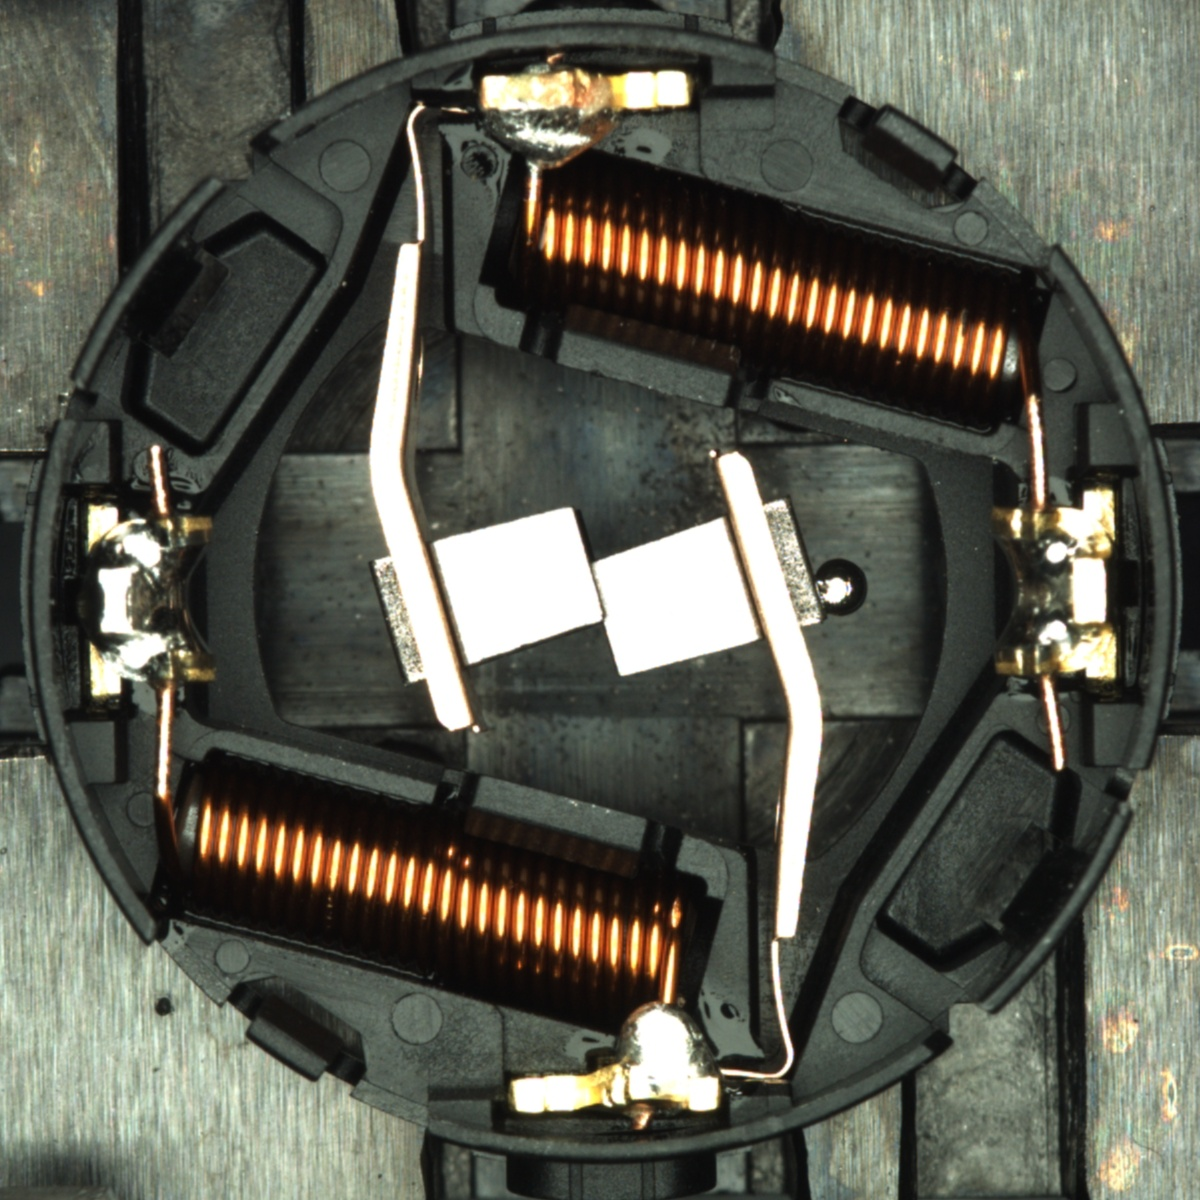1: (258, 55, 487, 279), (716, 953, 945, 1177)
2: (716, 55, 945, 279), (258, 953, 487, 1177)
3: (29, 279, 258, 503), (945, 729, 1175, 953)
4: (258, 279, 487, 503), (716, 729, 945, 953)
5: (487, 167, 716, 391), (487, 841, 716, 1065)
6: (716, 279, 945, 503), (258, 729, 487, 953)
7: (945, 279, 1175, 503), (29, 729, 258, 953)
chau_dien: (81, 498, 221, 699), (984, 489, 1122, 686)
hat_chi: (809, 557, 869, 618)
tay_choi: (510, 1000, 724, 1113), (479, 69, 695, 171)
thanh_de: (954, 788, 1140, 1030), (59, 165, 244, 405)
